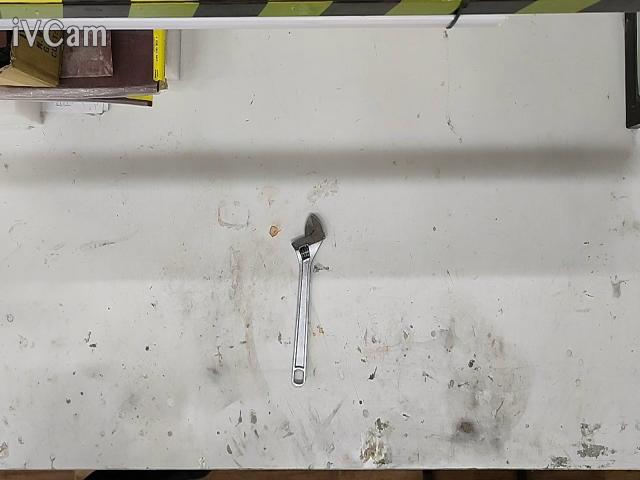Adjustable spanner: (291, 213, 325, 387)
